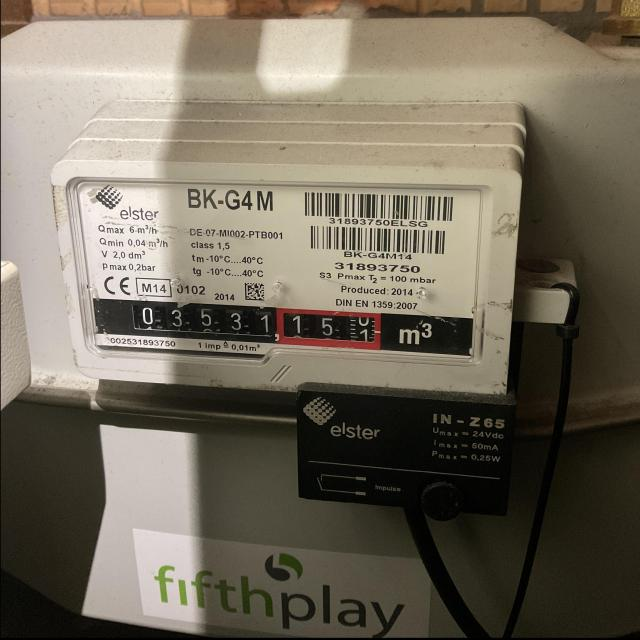gaz_meter: (65, 166, 484, 361)
indication: (124, 301, 391, 349)
